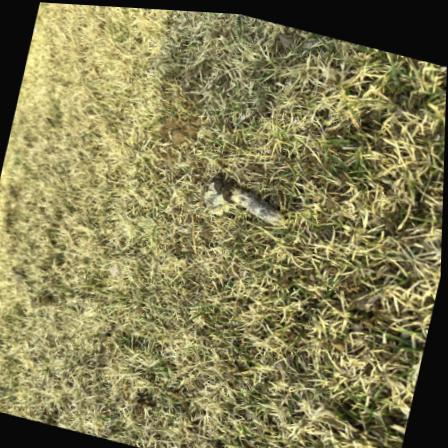dog-poop: (186, 161, 300, 237)
